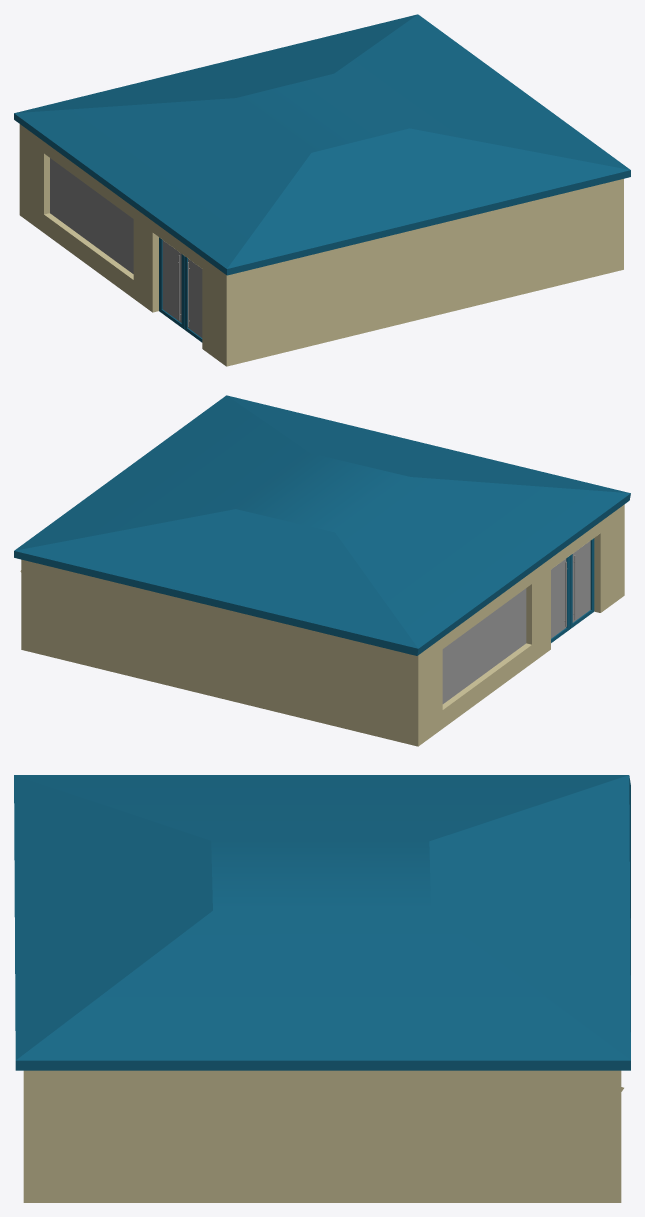
Rendered from teppichladen.fbx.
The picture shows the model from 3 angles, top to bottom: view 1: azimuth 30°, elevation 25°; view 2: azimuth 150°, elevation 25°; view 3: azimuth 270°, elevation 25°; orthographic projection. The views are drawn at different scales.
Visible parts, largest first — view 1: roof, house, window2, pasted__doorInset, pasted__pasted__doorInset, pasted__door1; view 2: roof, house, window2, pasted__pasted__doorInset, pasted__doorInset, pasted__pasted__door1; view 3: roof, house.
Part boxes in pixels (bbox=[...]): roof: bbox=[14, 14, 630, 275]; house: bbox=[19, 124, 623, 366]; window2: bbox=[50, 158, 133, 273]; pasted__doorInset: bbox=[162, 240, 181, 322]; pasted__pasted__doorInset: bbox=[188, 259, 202, 337]; pasted__door1: bbox=[159, 237, 184, 329]; roof: bbox=[14, 395, 630, 655]; house: bbox=[20, 504, 624, 746]; window2: bbox=[442, 588, 526, 703]; pasted__pasted__doorInset: bbox=[572, 541, 590, 622]; pasted__doorInset: bbox=[551, 559, 566, 638]; pasted__pasted__door1: bbox=[570, 538, 594, 628]; roof: bbox=[14, 775, 630, 1070]; house: bbox=[23, 1070, 623, 1202].
Bounding box in the file's own units: 12.83 × 3.93 × 11.73.
